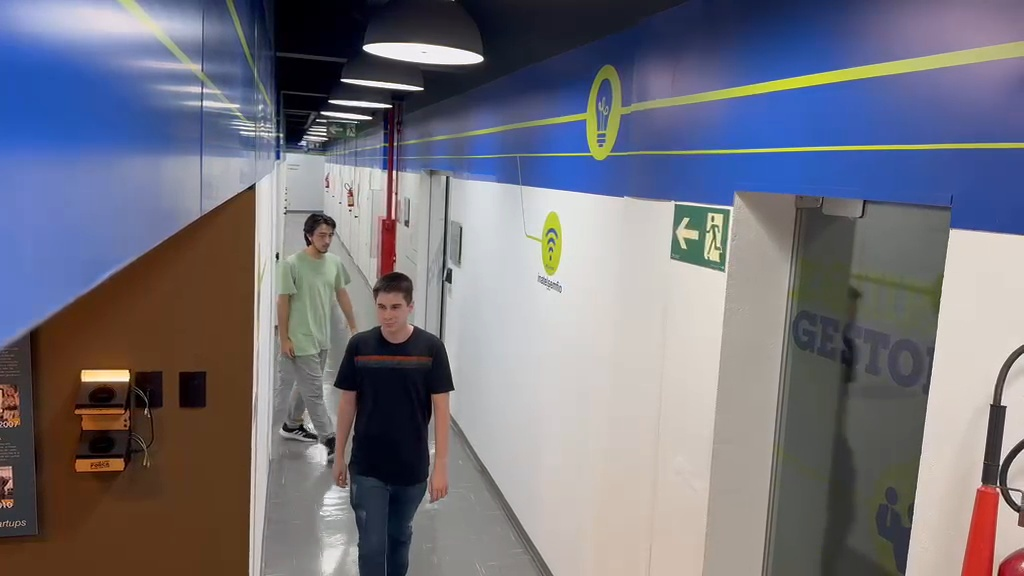person: (330, 271, 455, 573), (275, 212, 361, 444)
